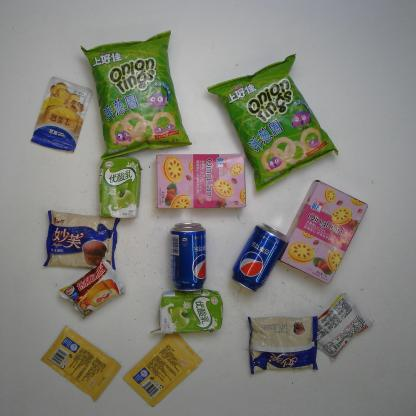Dessert: (278, 180, 368, 284), (155, 153, 248, 210), (42, 210, 121, 271), (247, 315, 319, 375), (316, 292, 374, 364), (58, 258, 126, 319)
Drink: (230, 222, 288, 293), (169, 222, 207, 292)
Milk: (150, 288, 224, 334), (98, 156, 143, 219)
Puffed Food: (206, 53, 340, 192), (79, 30, 193, 161)
Seasoner: (40, 325, 121, 402), (122, 334, 204, 408), (30, 76, 93, 153)
